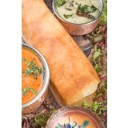dosa: (22, 1, 101, 103)
